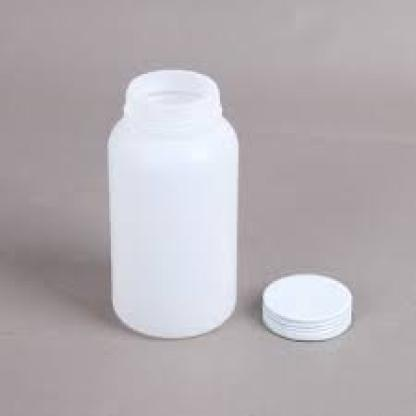trash: (108, 70, 237, 337), (262, 274, 351, 340)
